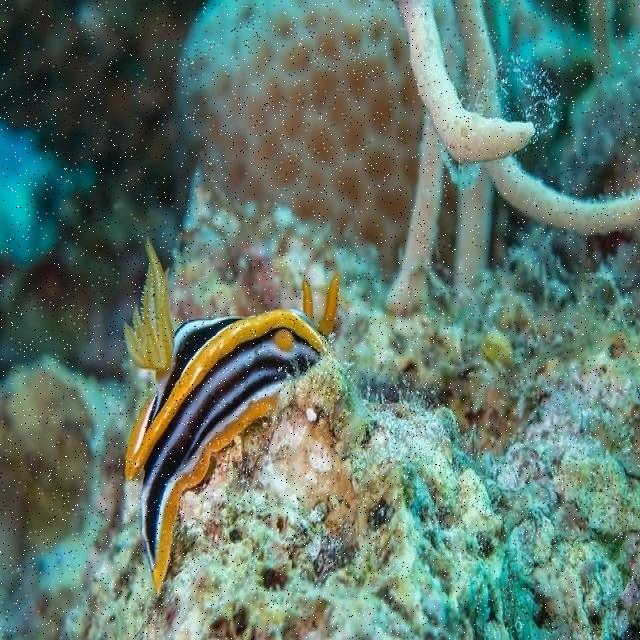reefs: (386, 3, 639, 315), (124, 238, 341, 597), (175, 0, 424, 278)
